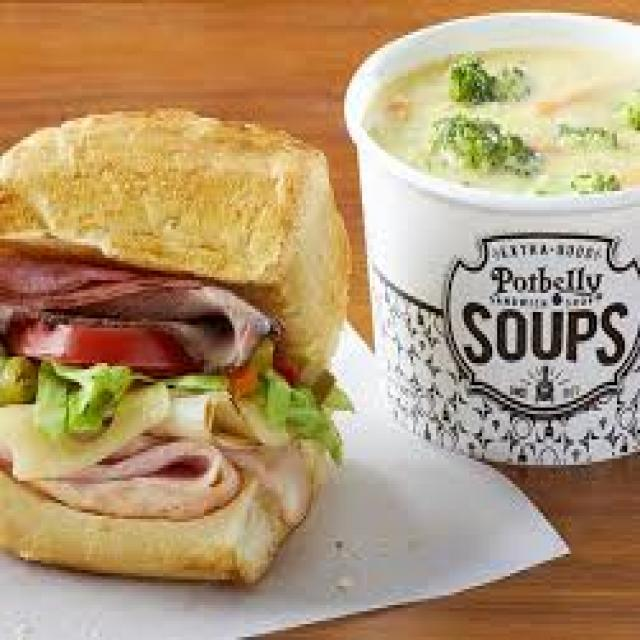Sandwich: (2, 65, 351, 600)
